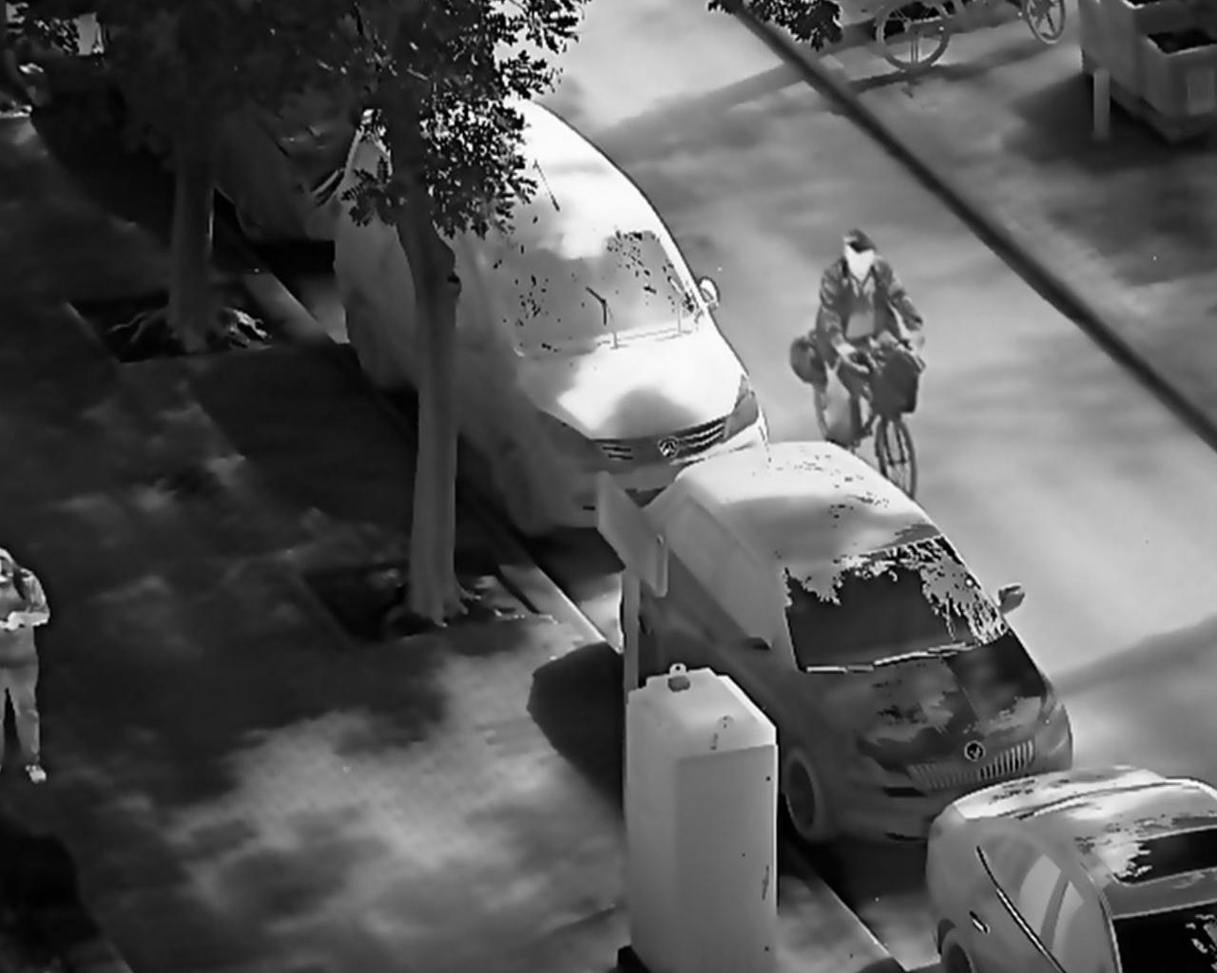person: (813, 225, 932, 448)
